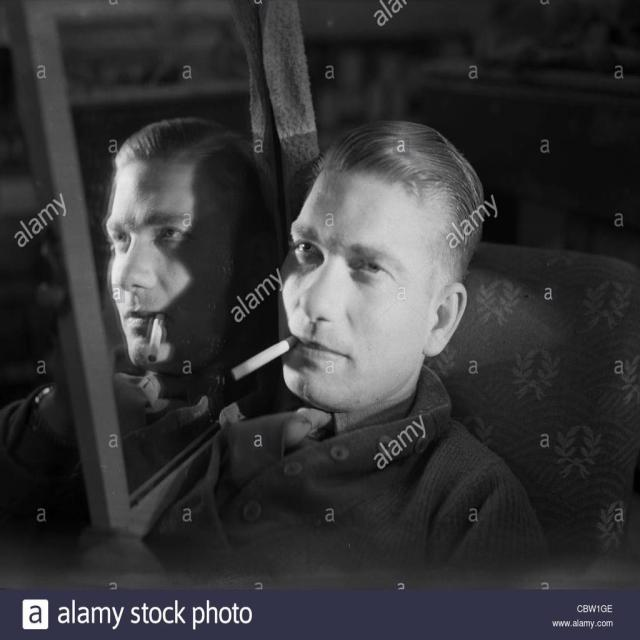smoking: (222, 147, 480, 398), (105, 133, 208, 377)
